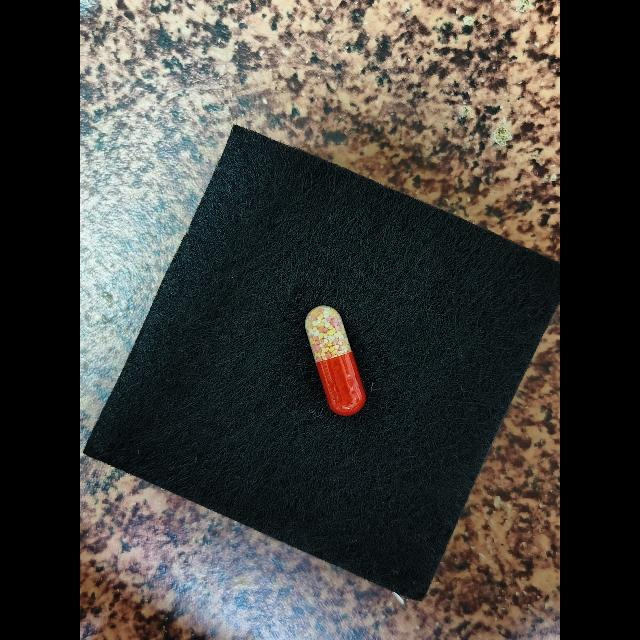Intact Capsule: (305, 305, 366, 415)
